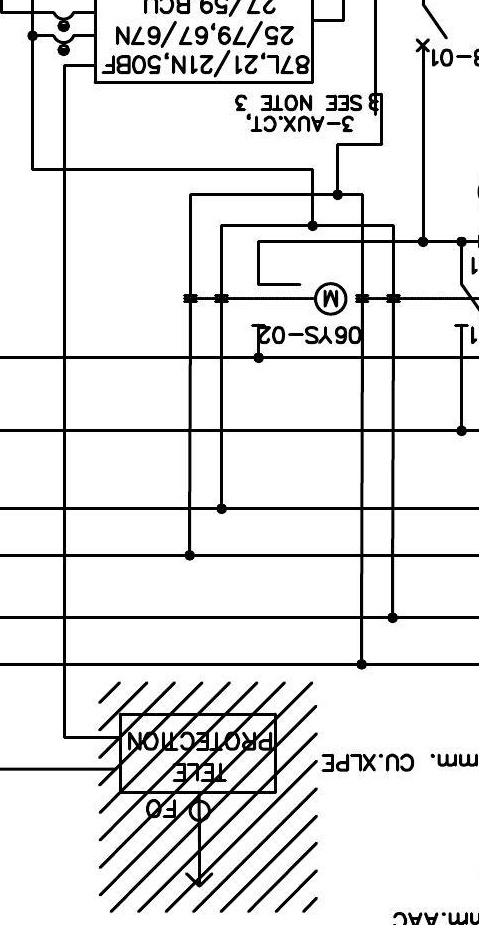115_1way_ds_w_motor: (250, 281, 349, 328)
115_breaker: (415, 4, 449, 54)
tele_protection: (116, 710, 280, 797)
